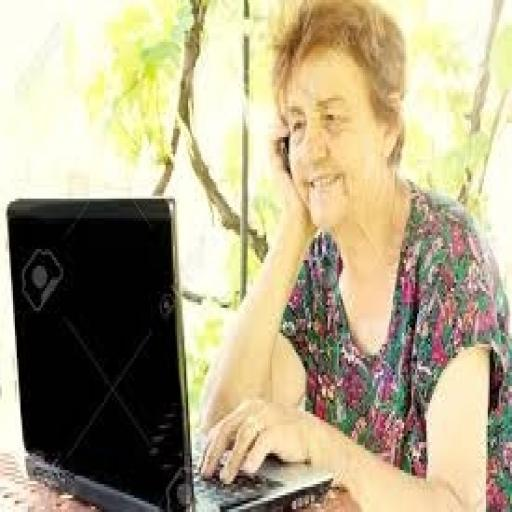using_laptop: (4, 193, 335, 509)
